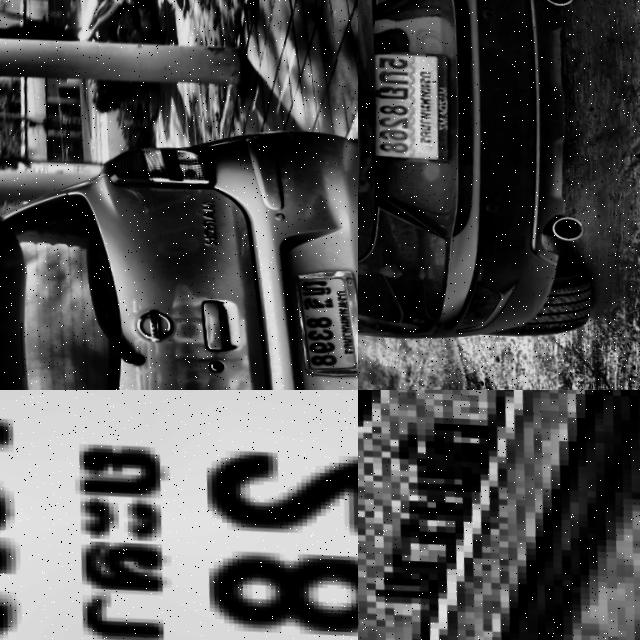license-plate: (0, 390, 358, 640), (358, 390, 640, 640), (358, 46, 451, 167), (273, 269, 358, 380)
